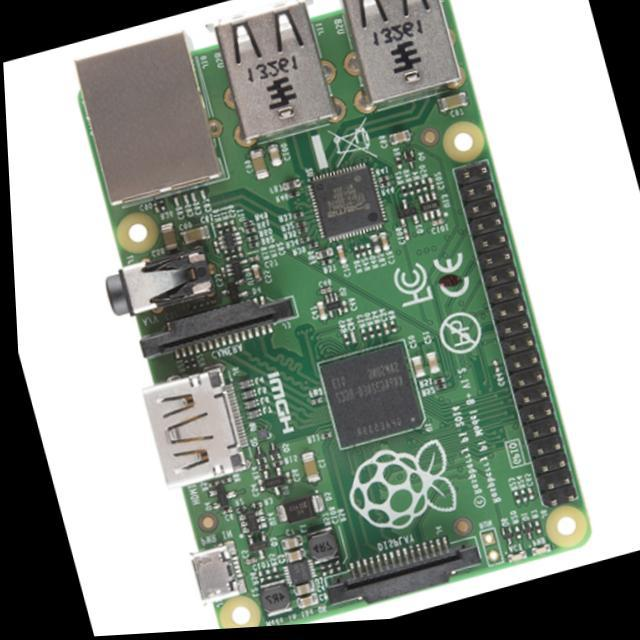Raspberry Pi 1 B-: (77, 1, 589, 626), (304, 324, 311, 332)
